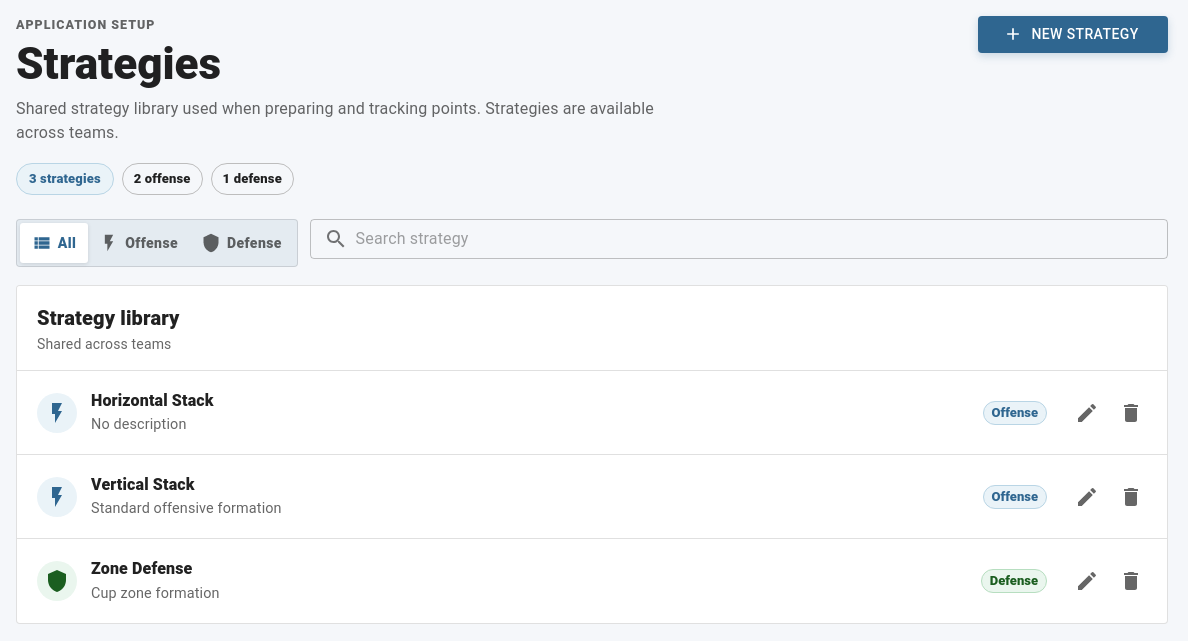
StrategiesPage › filters strategies by category and search text
Expected: the text "Vertical Stack" is shown, [91,475,195,494]
Click the button "Defense". click: (241, 243)
box: [189,223,294,263]
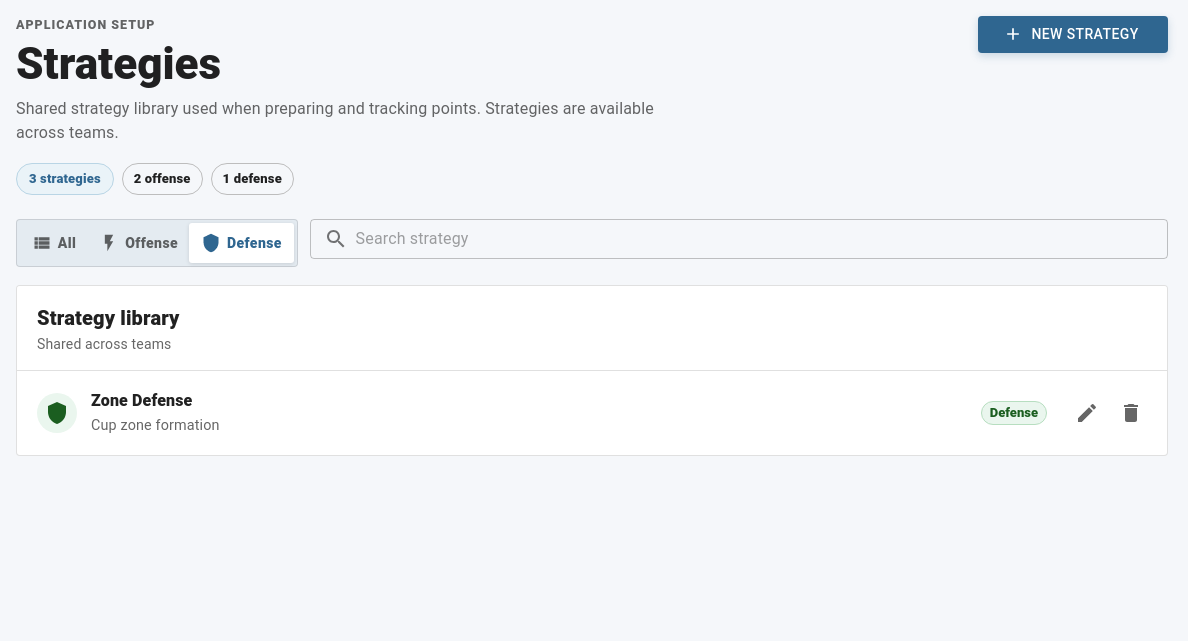
Expected: the text "Zone Defense" is shown, [91,391,192,410]
Now the button "Vertical Stack" is gone
Click the button "All". click: (54, 243)
box: [20,223,88,263]
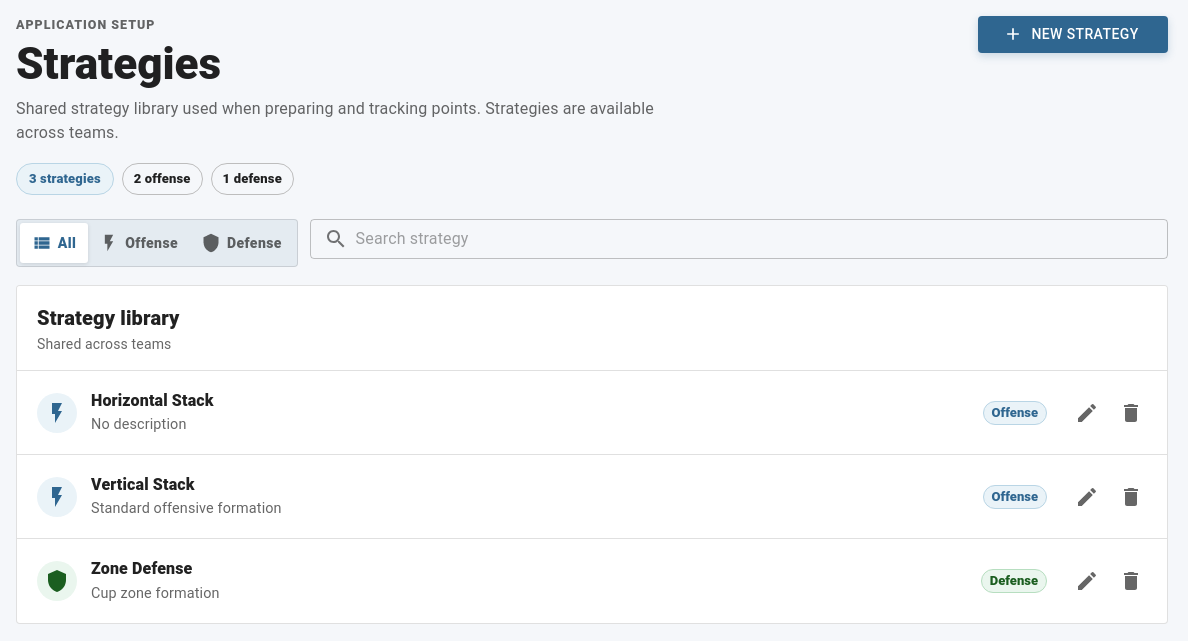
Type "horizontal" into the field labelled "Search strategy". click: (762, 239)
box: [356,219,1168,259]
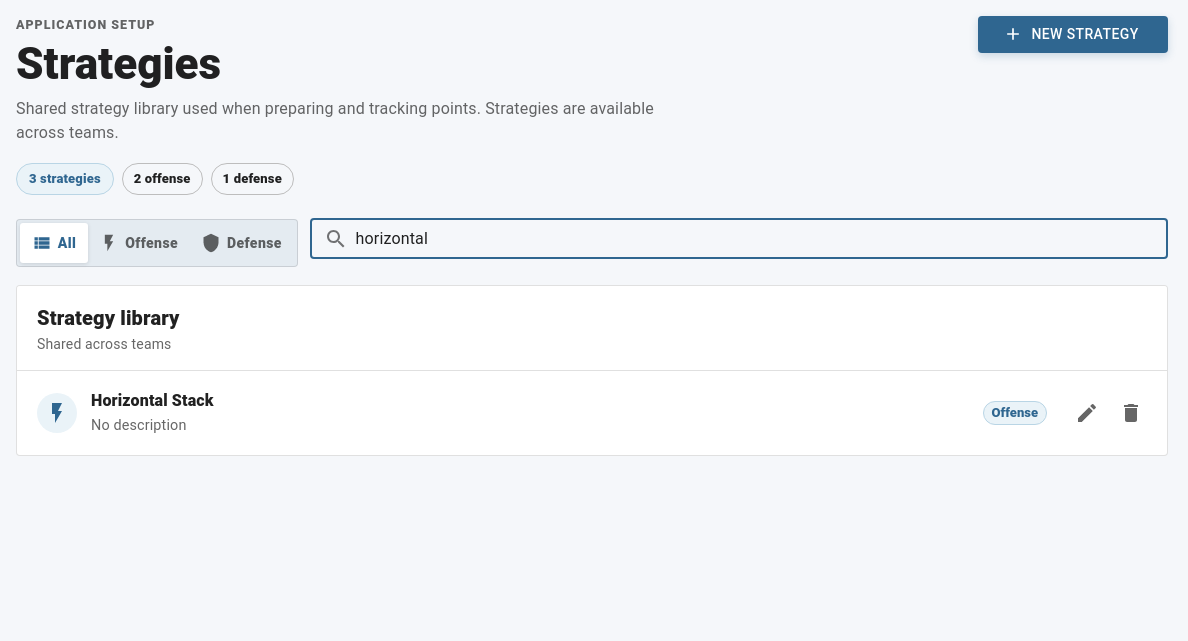
Now the text "Horizontal Stack" is shown, box [91,391,214,410]
Now the button "Vertical Stack" is gone
Now the button "Zone Defense" is gone
